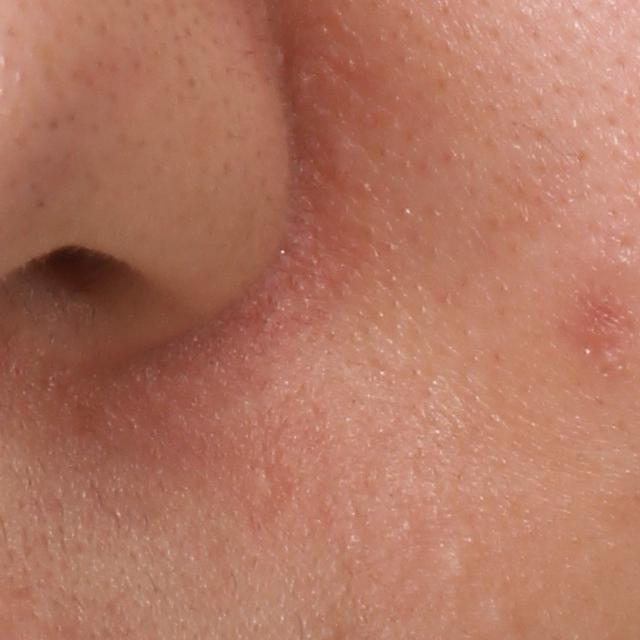comedo: (443, 551, 473, 578)
